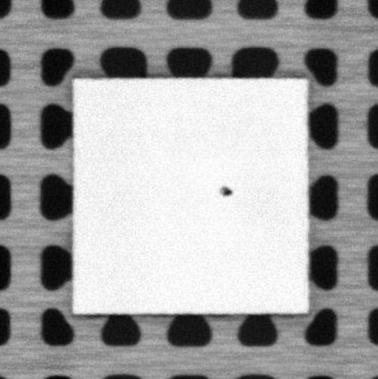DIE_INK: (219, 183, 233, 197)
